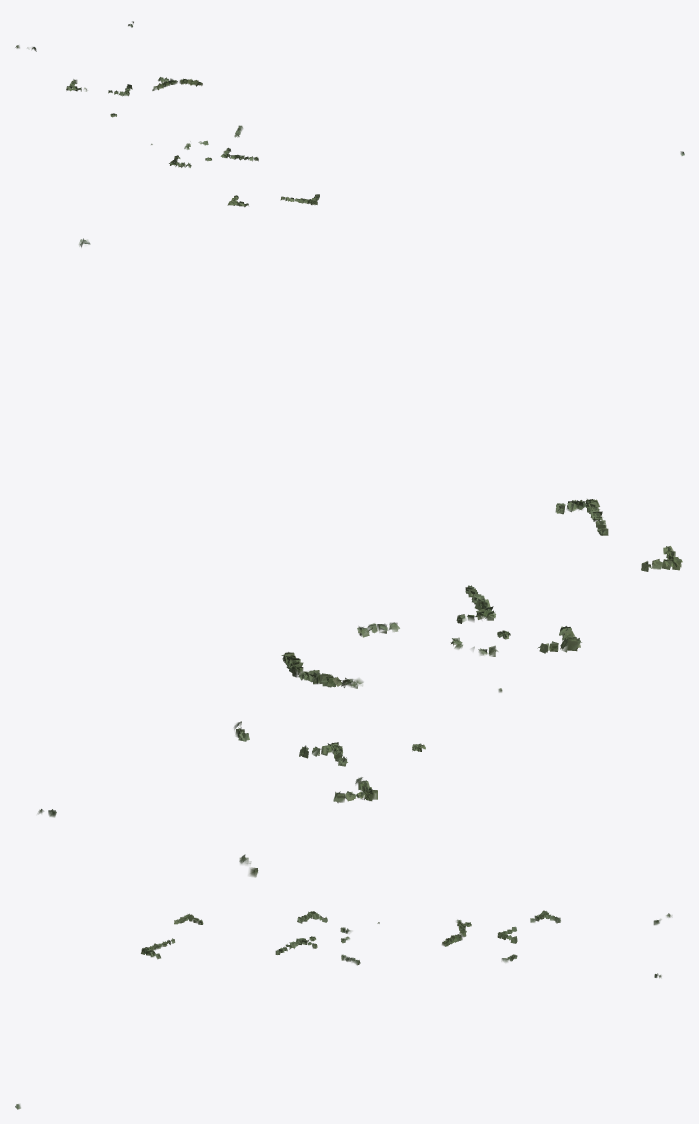
File: SM_Shrubs.glb
The picture shows the model from 3 angles, top to bottom: view 1: azimuth 30°, elevation 25°; view 2: azimuth 150°, elevation 25°; view 3: azimuth 270°, elevation 25°; orthographic projection. The views are drawn at different scales.
Parts seen in each view (by area): view 1: SM_Shrubs_VC; view 2: SM_Shrubs_VC; view 3: SM_Shrubs_VC.
Part boxes in pixels (x1,y1,x2,y2): SM_Shrubs_VC: (15, 21, 684, 207); SM_Shrubs_VC: (37, 238, 682, 877); SM_Shrubs_VC: (15, 910, 672, 1109).
Size of the model in its own units: 88.52 by 5.47 by 119.
